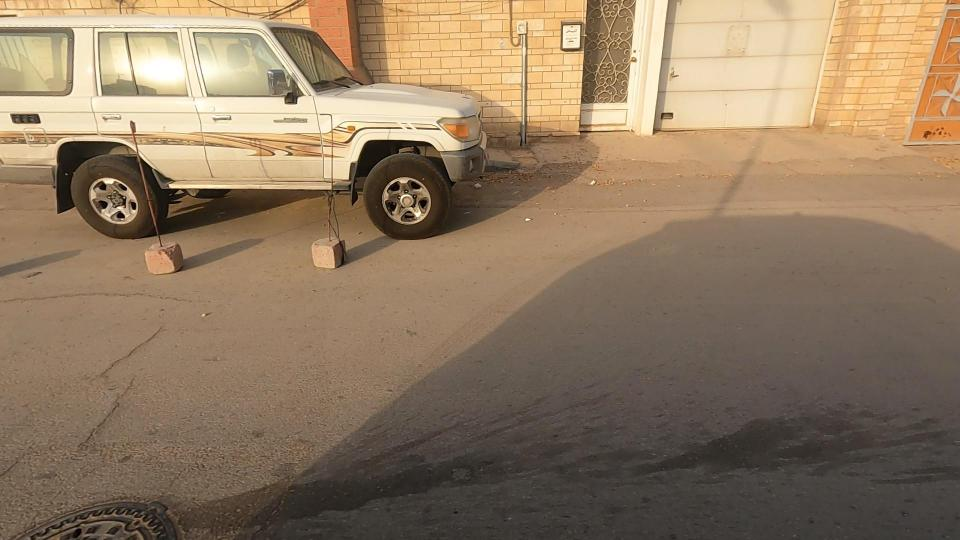GARBAGE: (432, 152, 537, 212)
POTHOLES: (44, 277, 208, 505), (0, 257, 280, 331)
